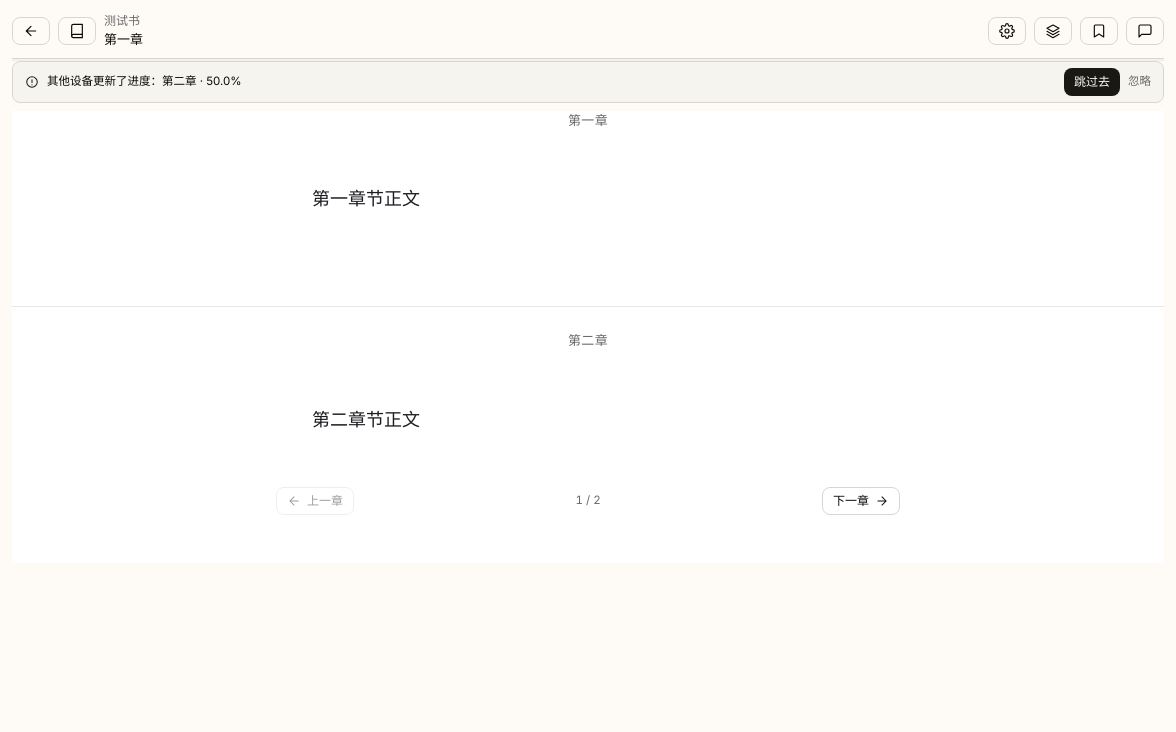
Test case: ReaderView · 其他设备进度提示（第 56 期） › 点「跳过去」才真的跳，并立刻把本机位置写回
The image size is (1176, 732).
Step 1. Click the button "跳过去" → (1092, 82), box [1064,68,1120,96]
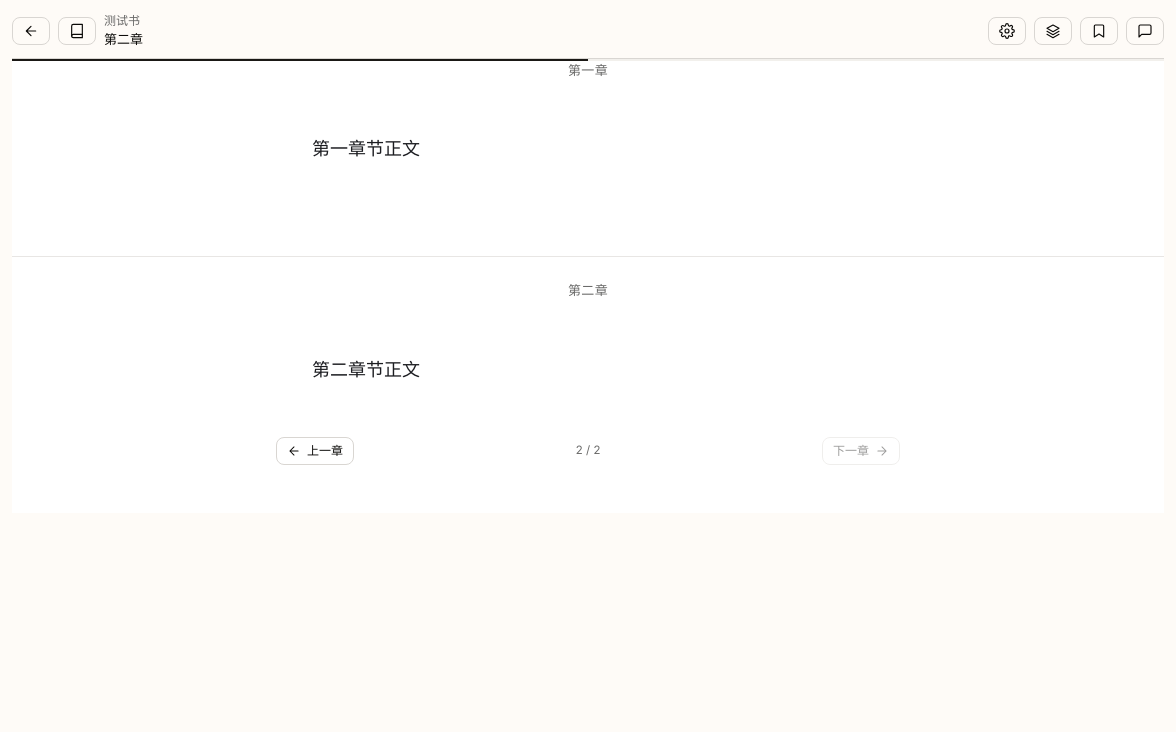
Expected: the text "其他设备更新了进度" is gone
